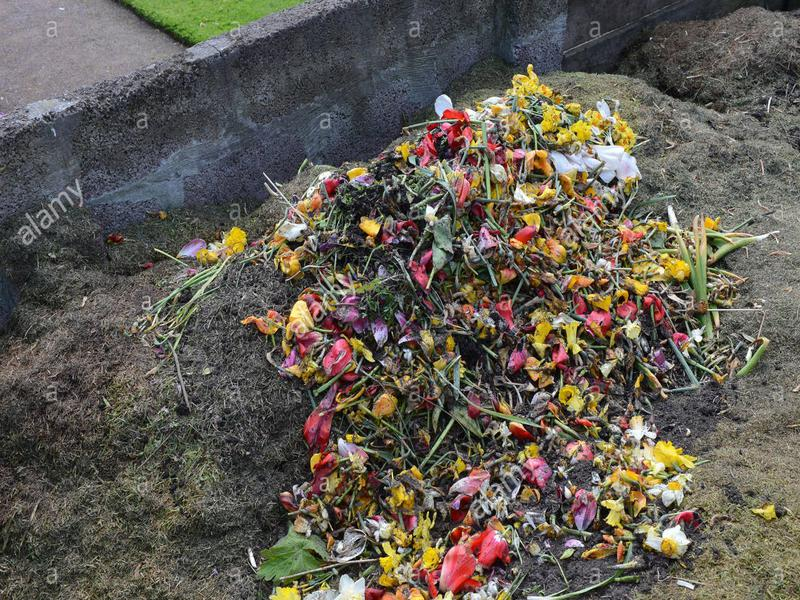flowers: (247, 64, 779, 600), (176, 224, 249, 272)
leaf: (255, 531, 348, 585)
